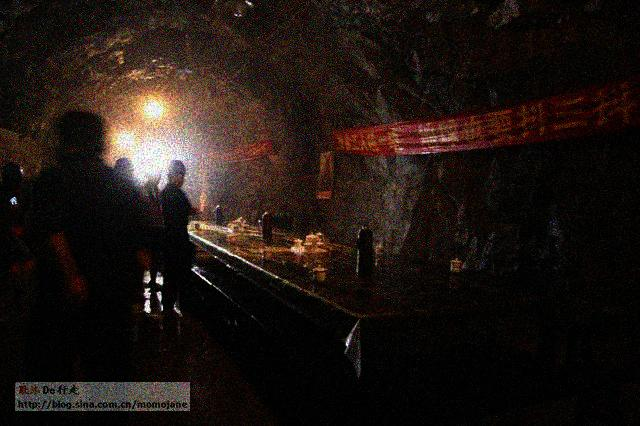helmet: (114, 155, 138, 183), (165, 159, 188, 188)
